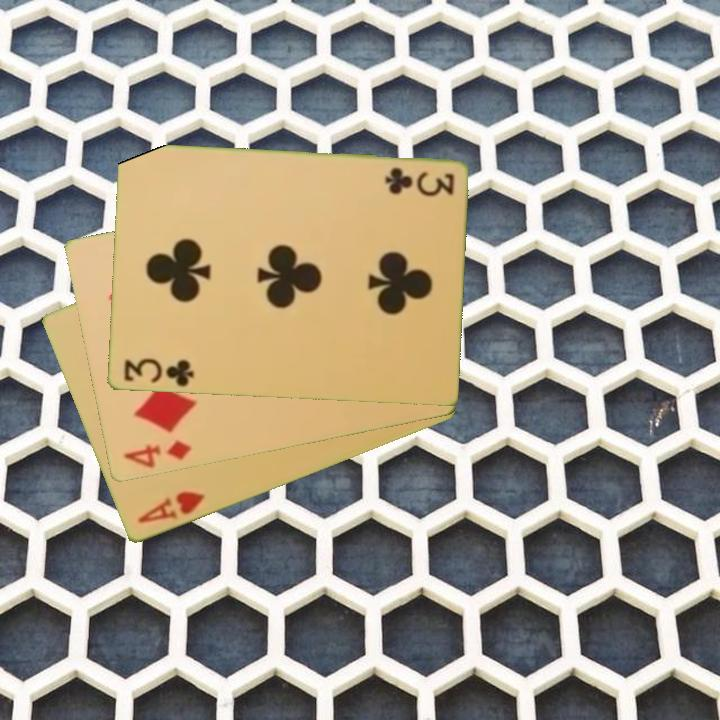3c: (120, 355, 196, 390), (380, 164, 457, 197)
4d: (120, 437, 194, 472)
Ah: (134, 488, 208, 527)
